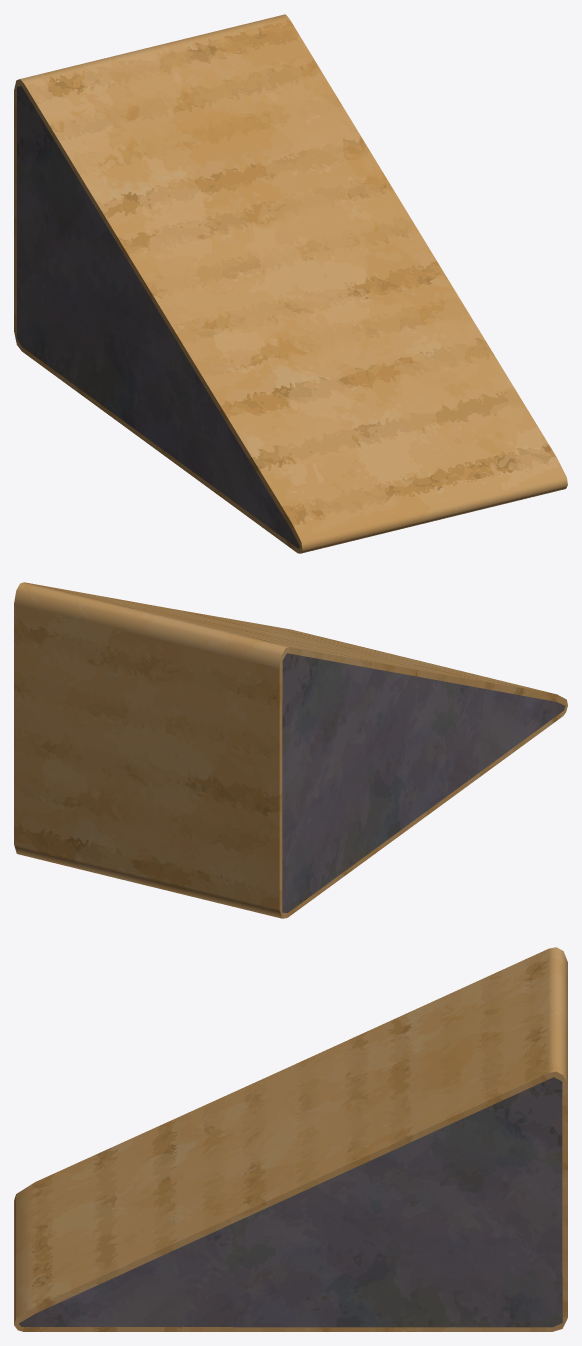
File: Cat_Ramp.fbx
3 renders of one model, top to bottom at view 1: azimuth 30°, elevation 25°; view 2: azimuth 150°, elevation 25°; view 3: azimuth 270°, elevation 25°, orthographic. The views are drawn at different scales.
Visible parts, largest first — view 1: pCube1; view 2: pCube1; view 3: pCube1.
Part boxes in pixels (<box>): pCube1: <box>14,14,567,553</box>; pCube1: <box>14,582,567,918</box>; pCube1: <box>14,947,567,1331</box>.
Size of the model in its own units: 1 by 0.9757 by 1.88.
